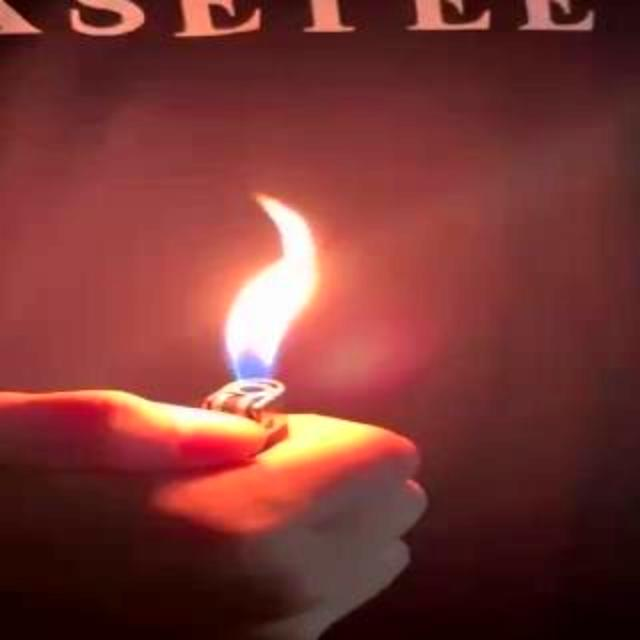fire: (202, 195, 318, 444)
